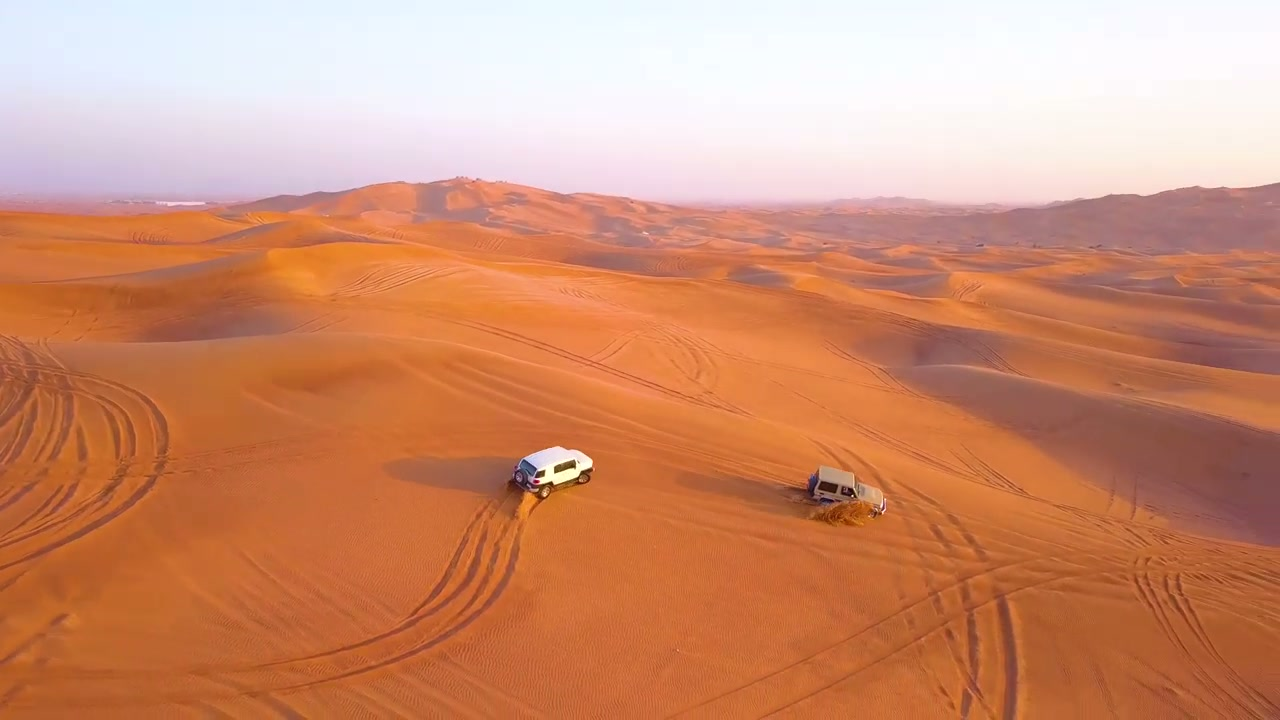vehicle_track: (41, 485, 536, 704), (0, 338, 168, 570), (421, 309, 732, 411), (1131, 556, 1279, 717), (823, 340, 928, 398), (330, 263, 456, 297)
